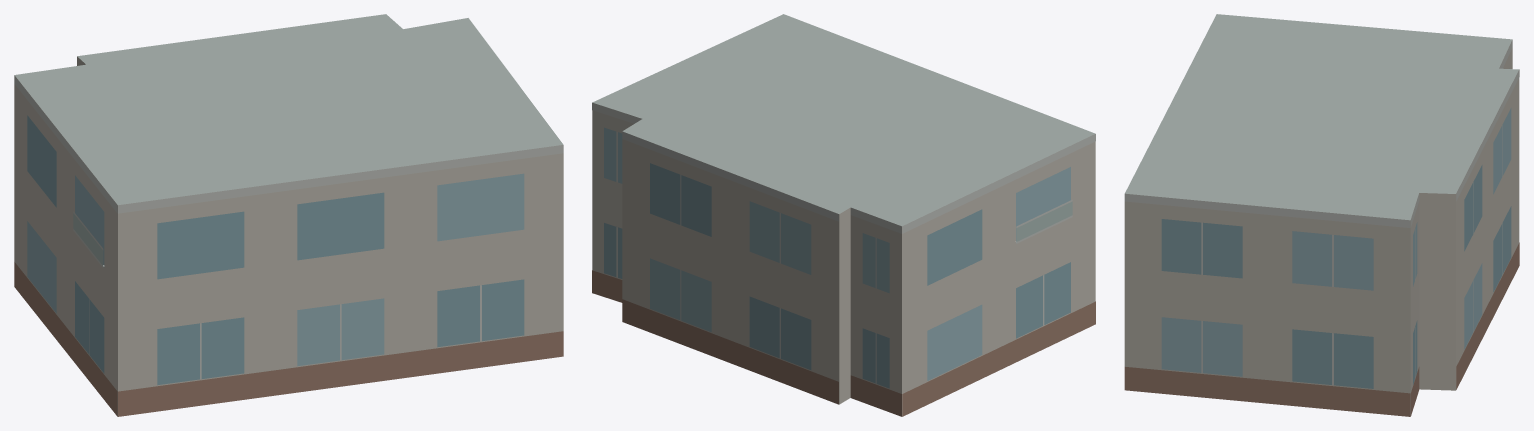
The model's file is survey-upis-32535916.glb.
The picture shows the model from 3 angles, left to right: view 1: azimuth 30°, elevation 25°; view 2: azimuth 150°, elevation 25°; view 3: azimuth 270°, elevation 25°; orthographic projection. The views are drawn at different scales.
Parts seen in each view (by area): view 1: survey-upis-32535916.tmp; view 2: survey-upis-32535916.tmp; view 3: survey-upis-32535916.tmp.
Boxes of the visible parts, bbox=[...] form: survey-upis-32535916.tmp: bbox=[14, 14, 563, 416]; survey-upis-32535916.tmp: bbox=[592, 14, 1095, 416]; survey-upis-32535916.tmp: bbox=[1124, 14, 1519, 416].
Bounding box in the file's own units: 13.74 × 6.1 × 11.11.
